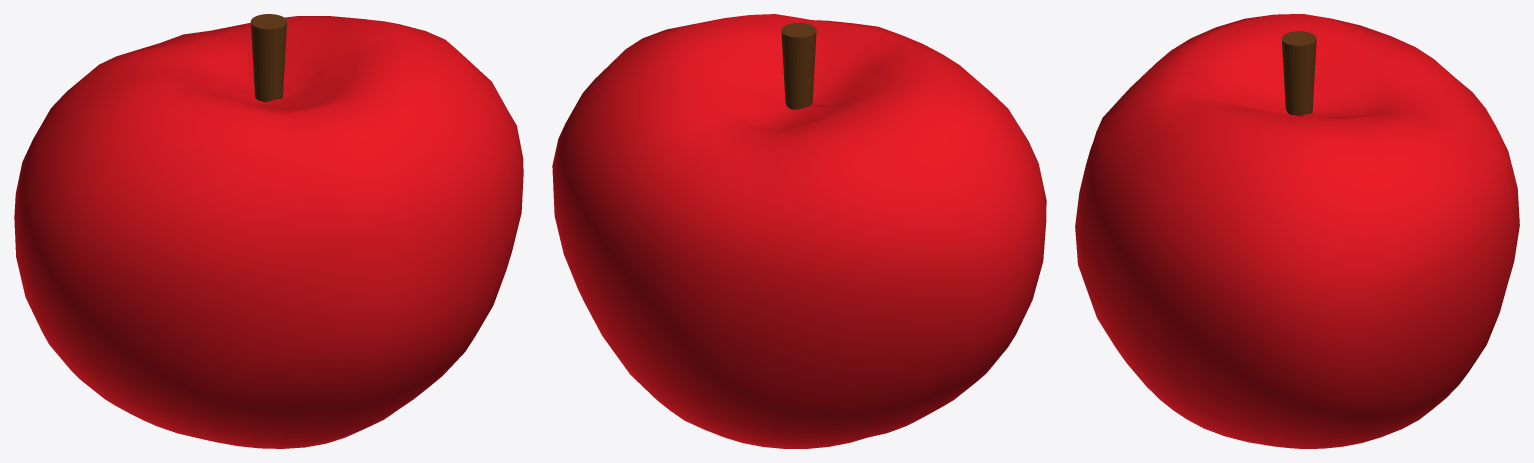
Rendered from apple.fbx.
The picture shows the model from 3 angles, left to right: view 1: azimuth 30°, elevation 25°; view 2: azimuth 150°, elevation 25°; view 3: azimuth 270°, elevation 25°; orthographic projection. The views are drawn at different scales.
Visible parts, largest first — view 1: Sphere, Cylinder; view 2: Sphere, Cylinder; view 3: Sphere, Cylinder.
Part boxes in pixels (bbox=[...]): Sphere: bbox=[14, 16, 523, 448]; Cylinder: bbox=[250, 14, 286, 102]; Sphere: bbox=[552, 14, 1046, 448]; Cylinder: bbox=[781, 23, 816, 109]; Sphere: bbox=[1075, 14, 1519, 448]; Cylinder: bbox=[1281, 31, 1316, 115].
Size of the model in its own units: 255 by 205 by 219.
